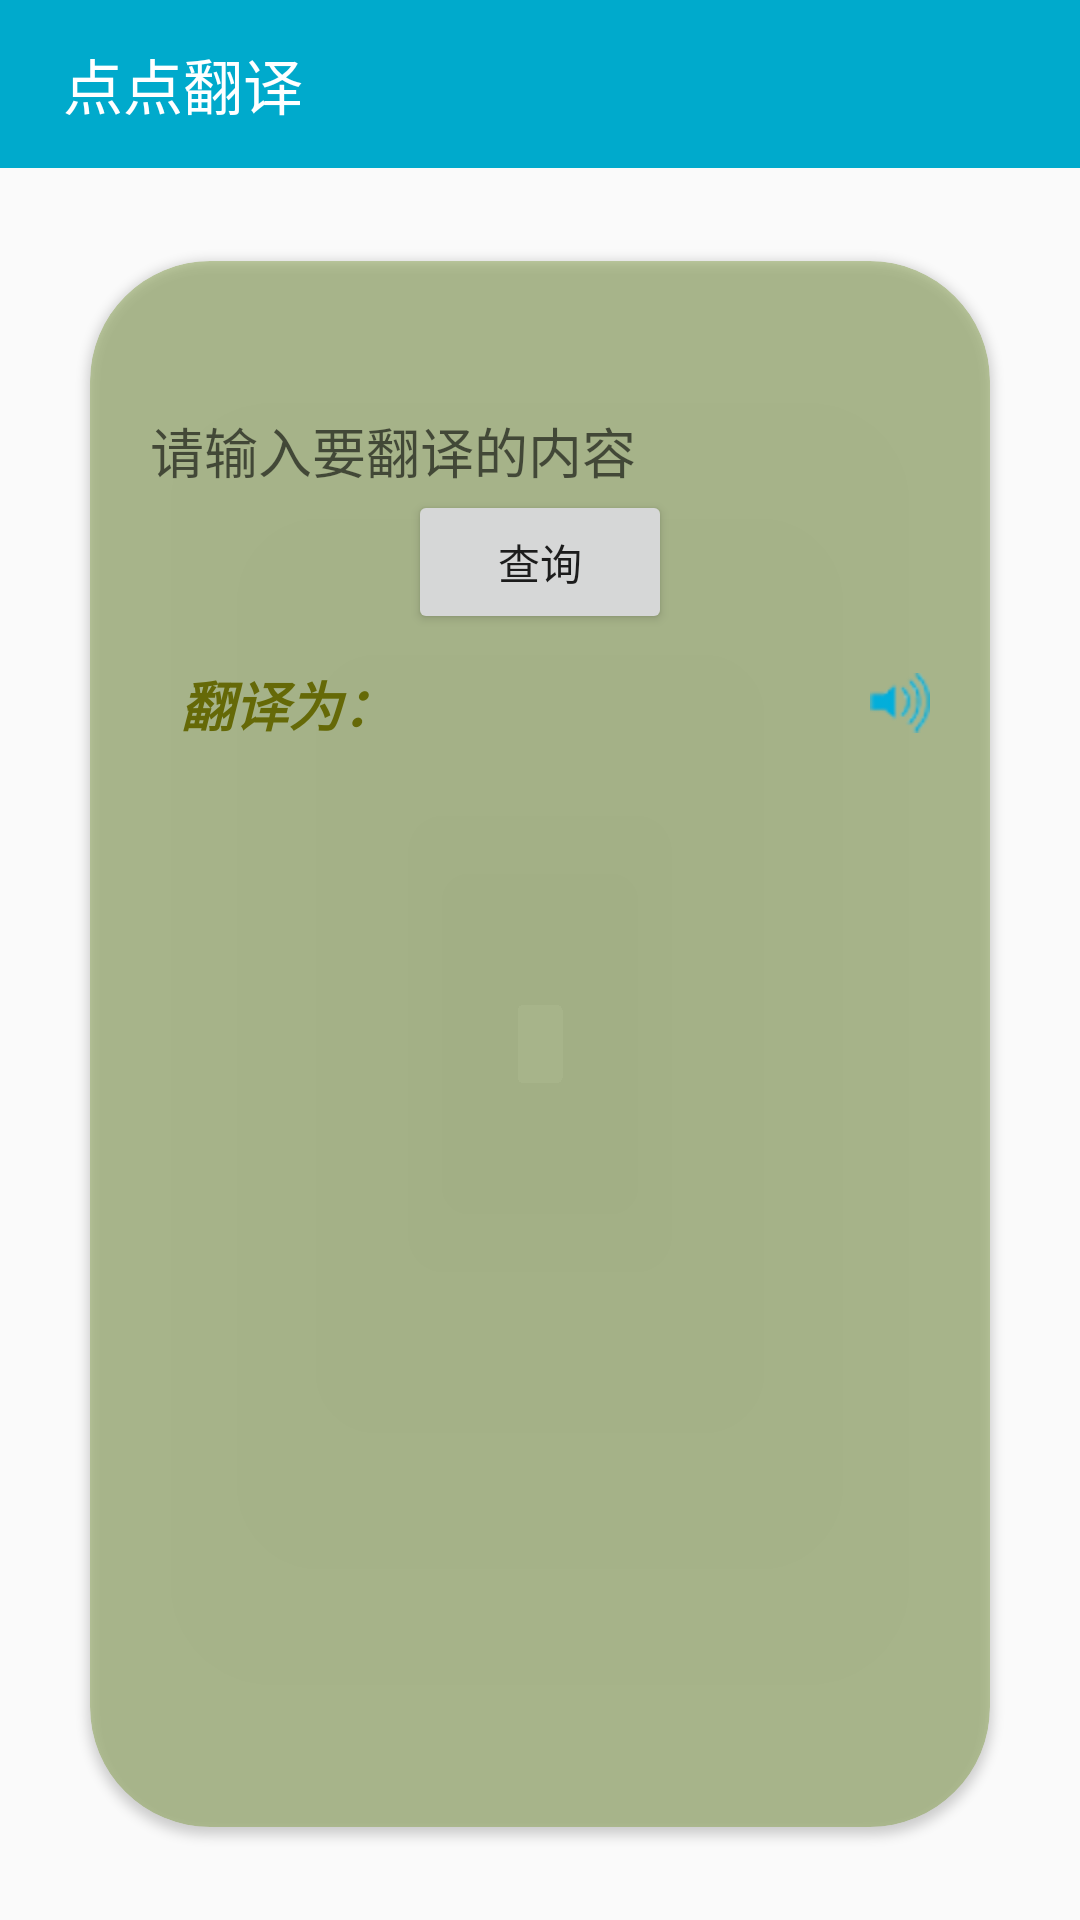

Screen size 1080px x 1920px. Icon name, then its center in pixels as (x,y):
voice: (900,703)
